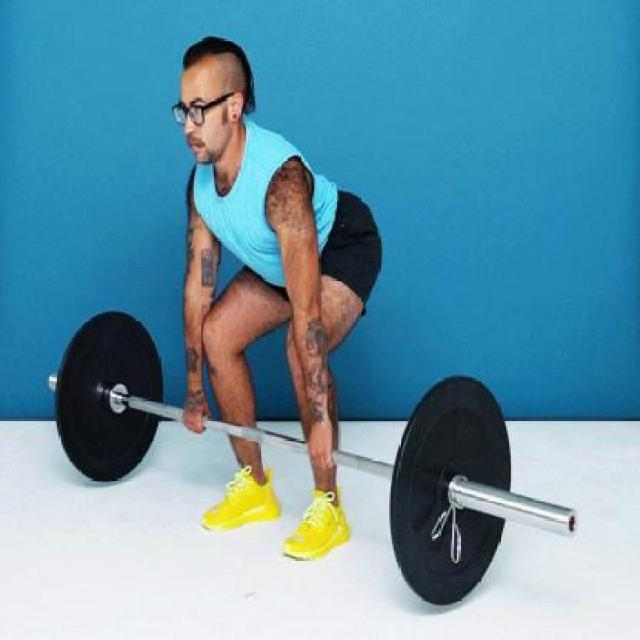barbell: (384, 385, 589, 618)
